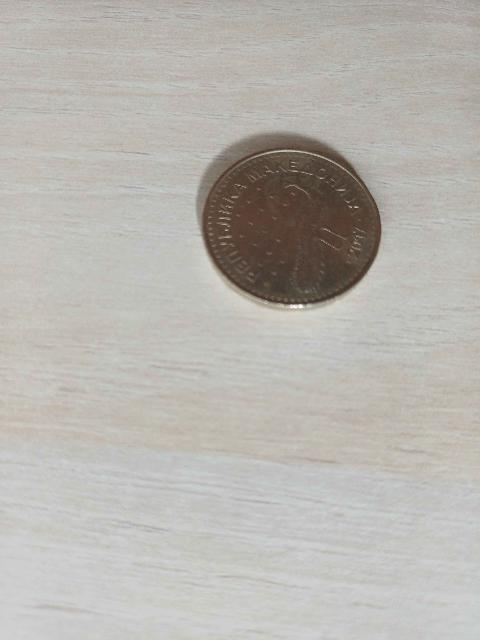10_coin: (203, 150, 380, 308)
